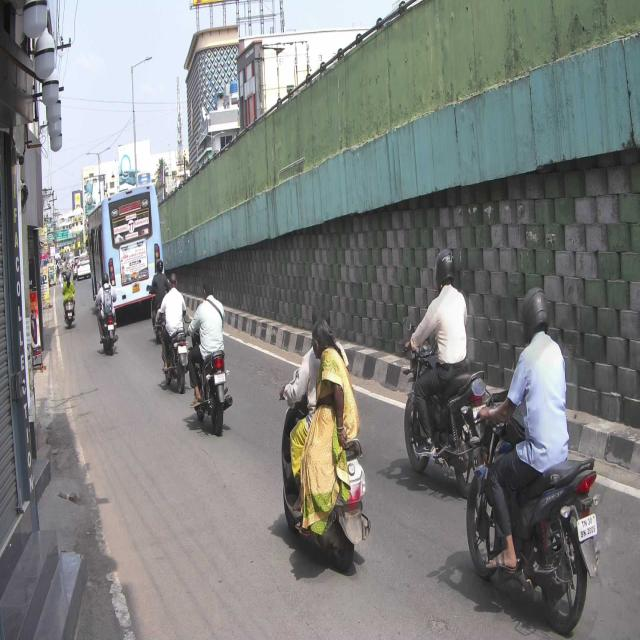double_rider: (277, 304, 372, 570)
single_rider: (488, 285, 602, 636), (404, 249, 485, 499), (186, 276, 232, 435)
